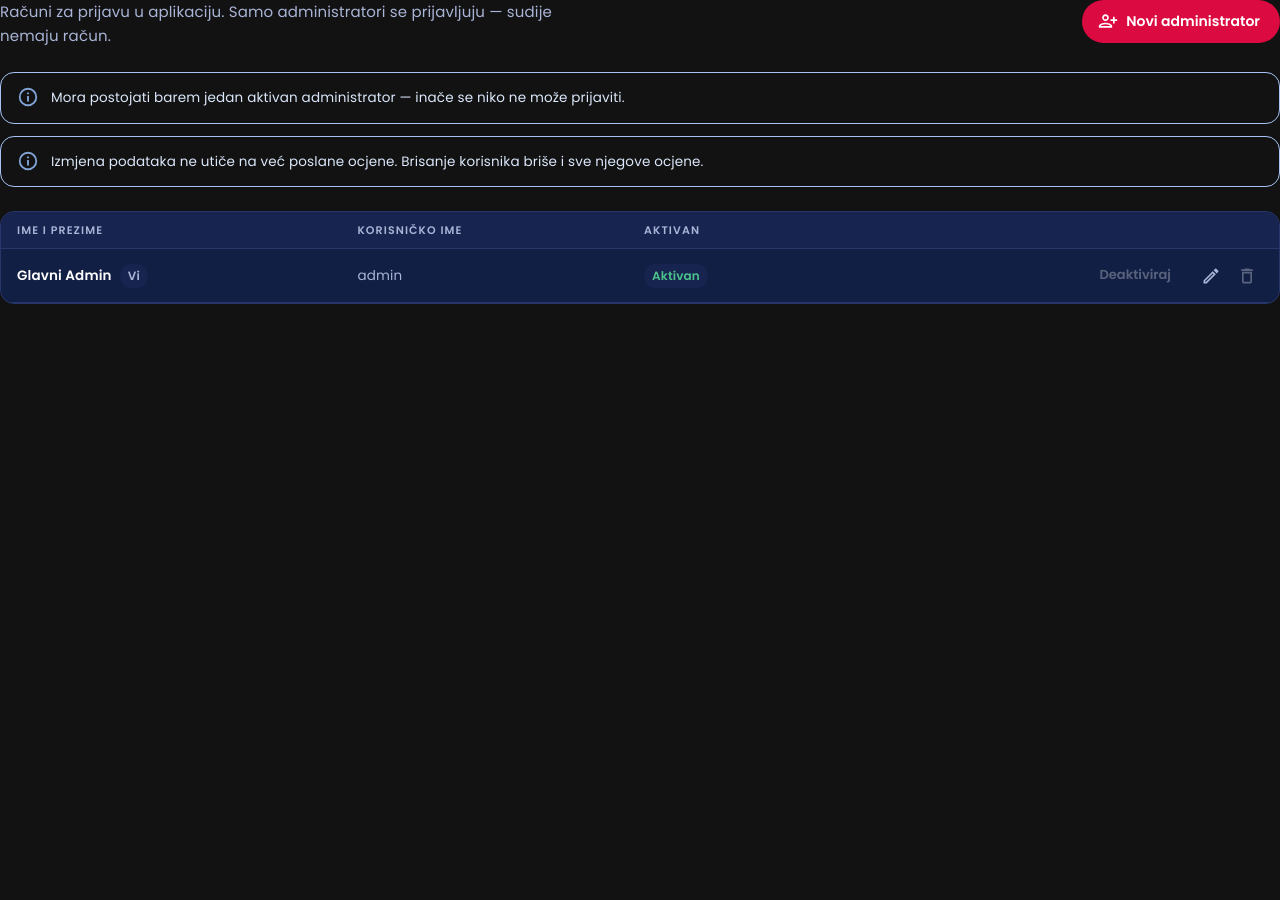
Test: UsersTab › reports a username that is taken
Click the button "Novi administrator" at coordinates (1181, 21), box [1082,0,1279,42]
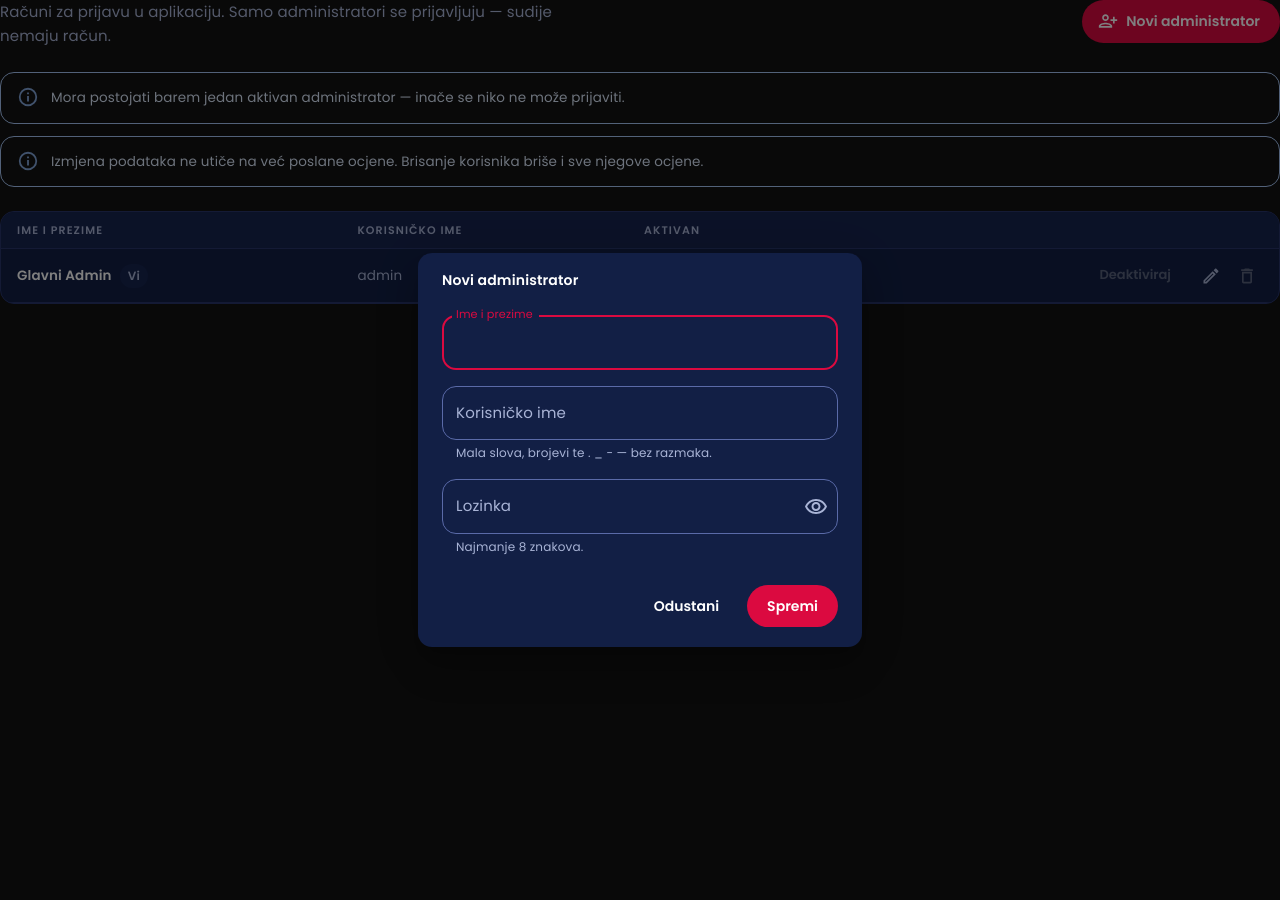
Type "Drugi Admin" into the field labelled "Ime i prezime" at coordinates (640, 342), box [442,315,838,370]
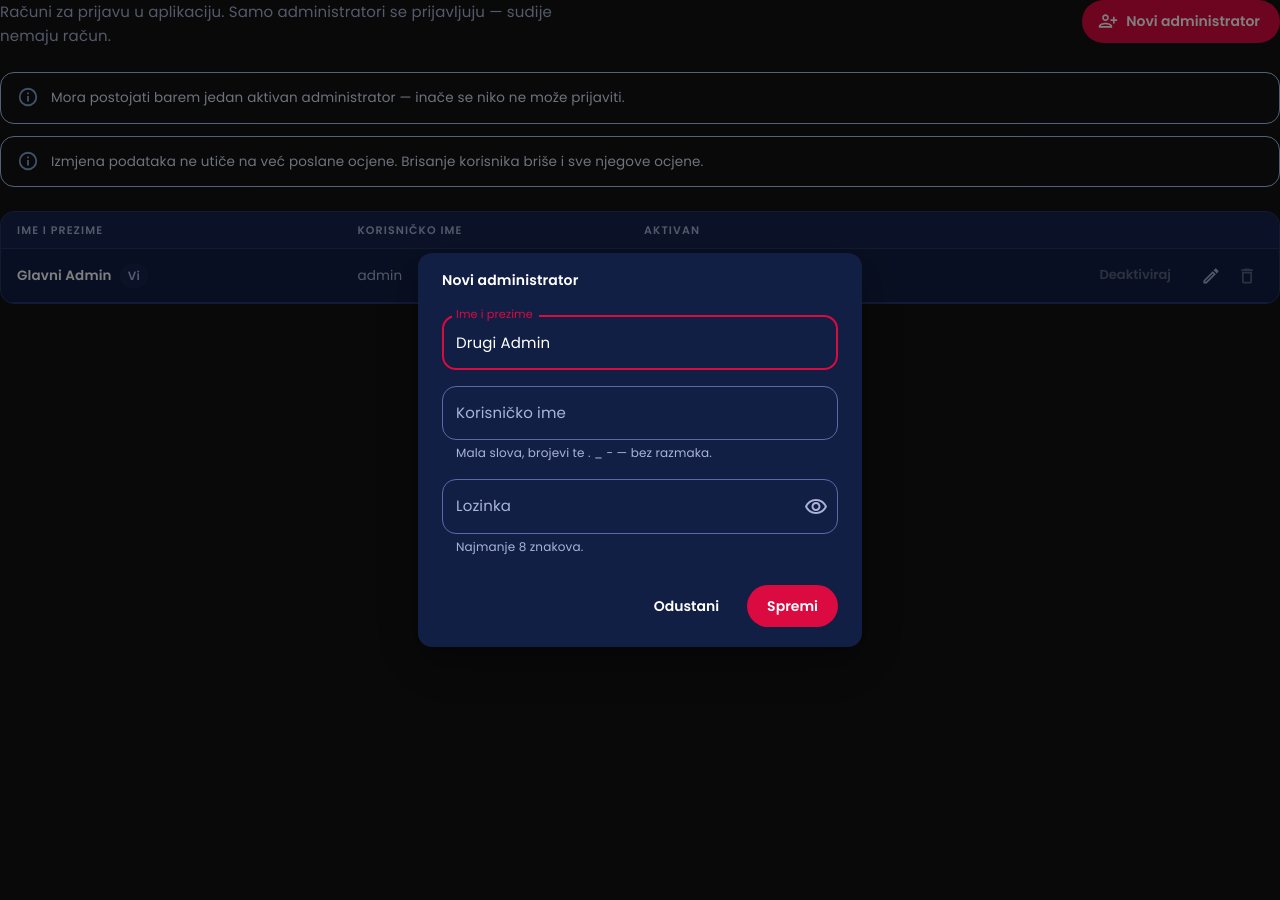
Type "drugi" into the field labelled "Korisničko ime" at coordinates (640, 413), box [442,386,838,440]
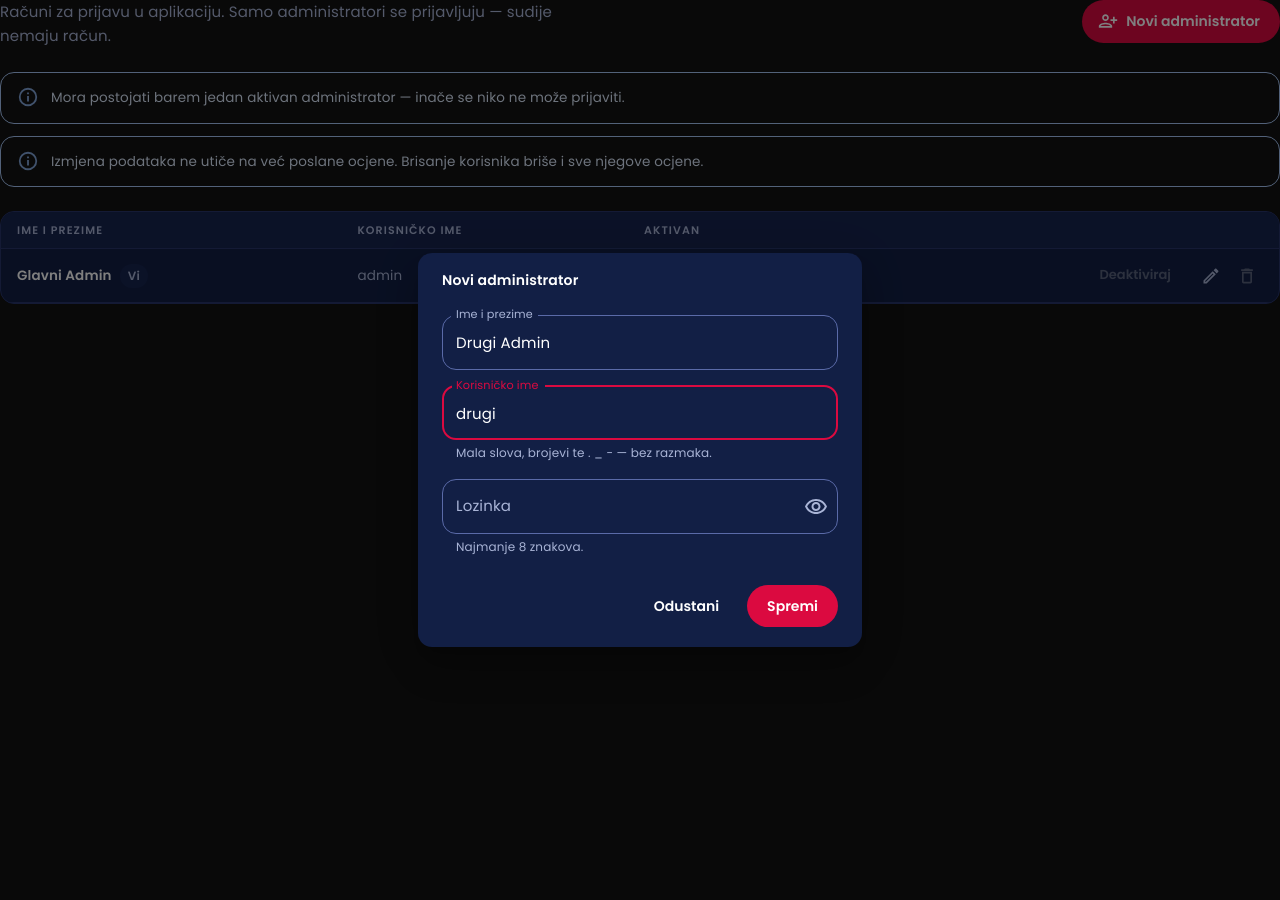
Type "Tarik123!" into the password field labelled "Lozinka" at coordinates (615, 506), box [442,479,788,534]
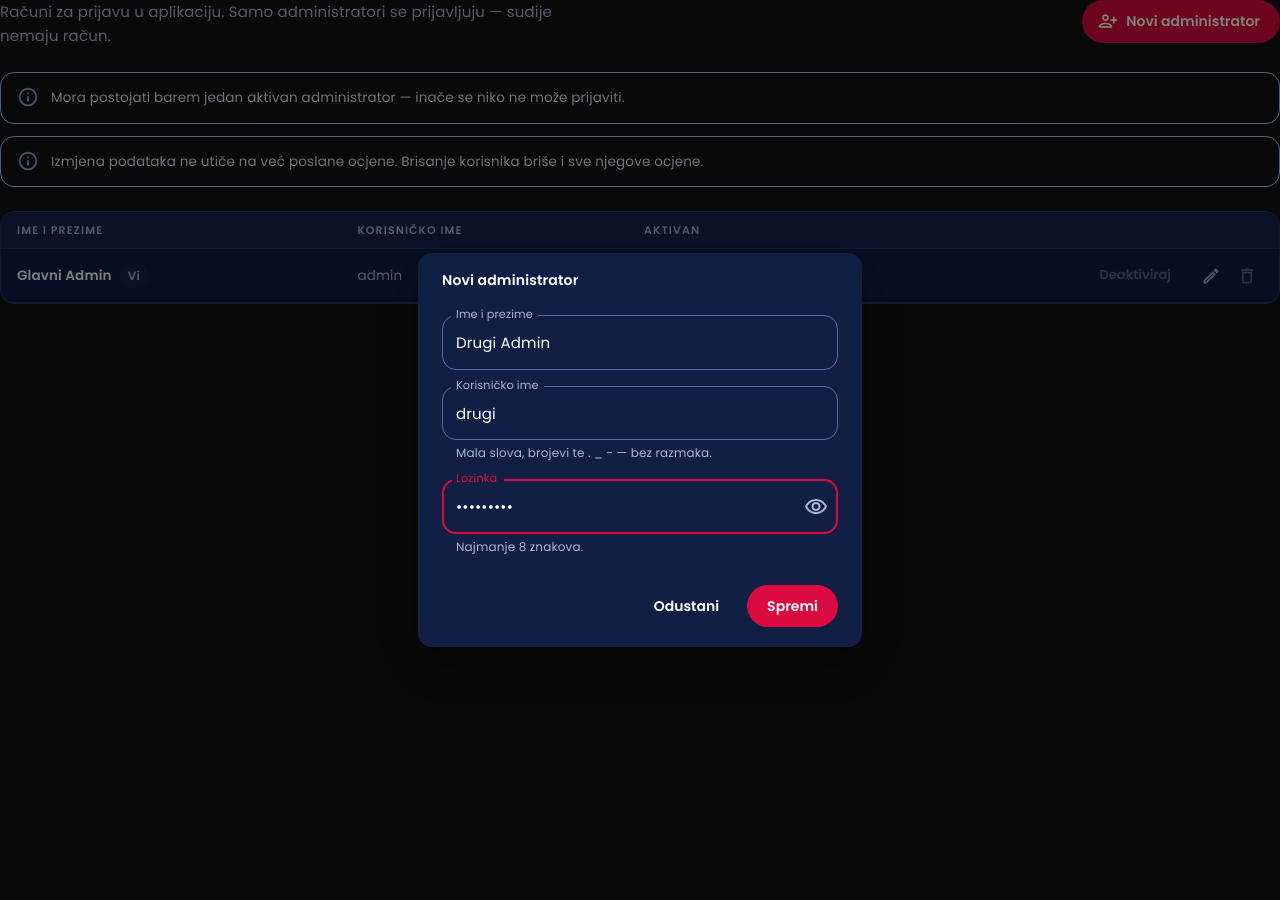
Click the button "Spremi" at coordinates (793, 606), box [747,585,838,627]
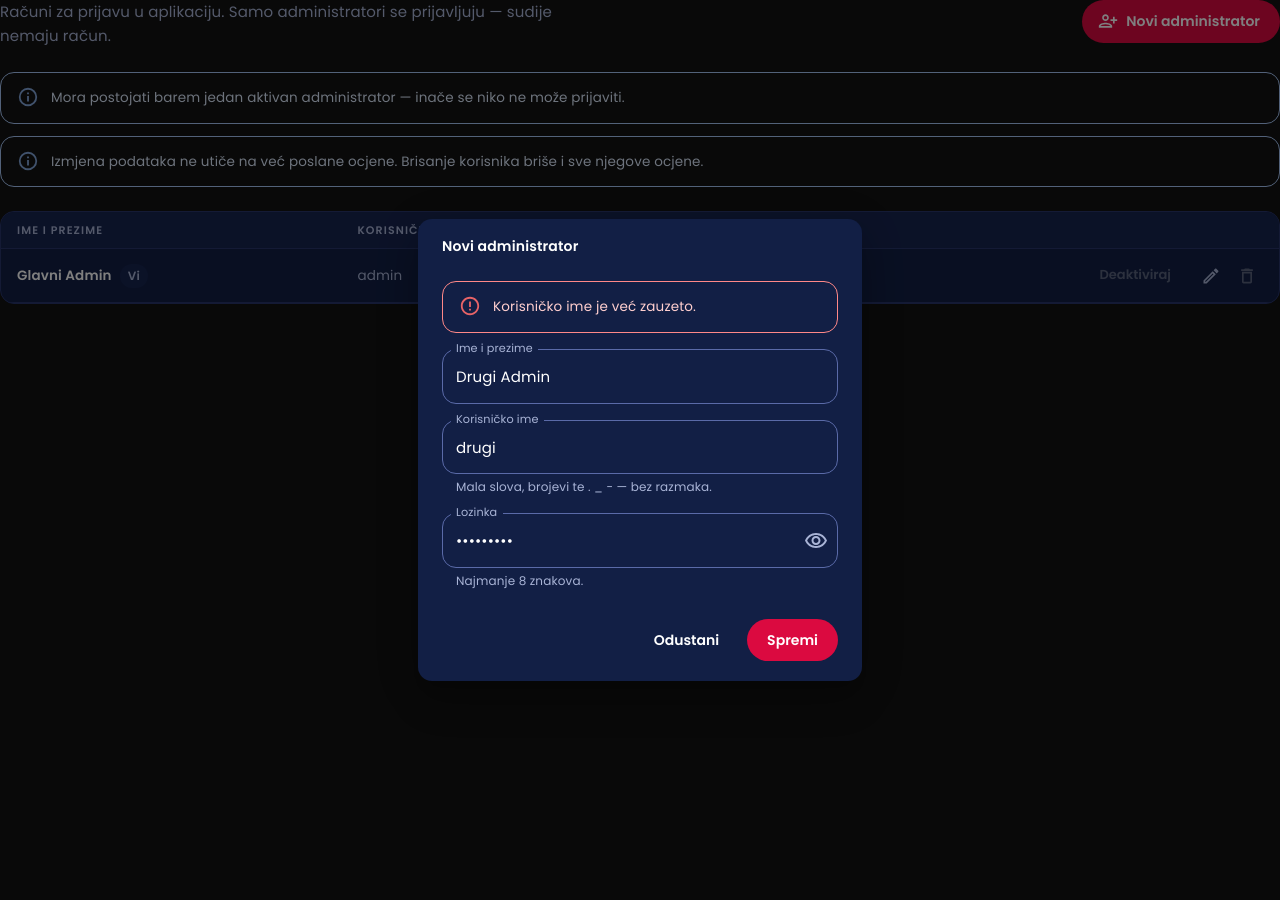
Check: the text "Korisničko ime je već zauzeto." is shown, box [493,297,696,316]
